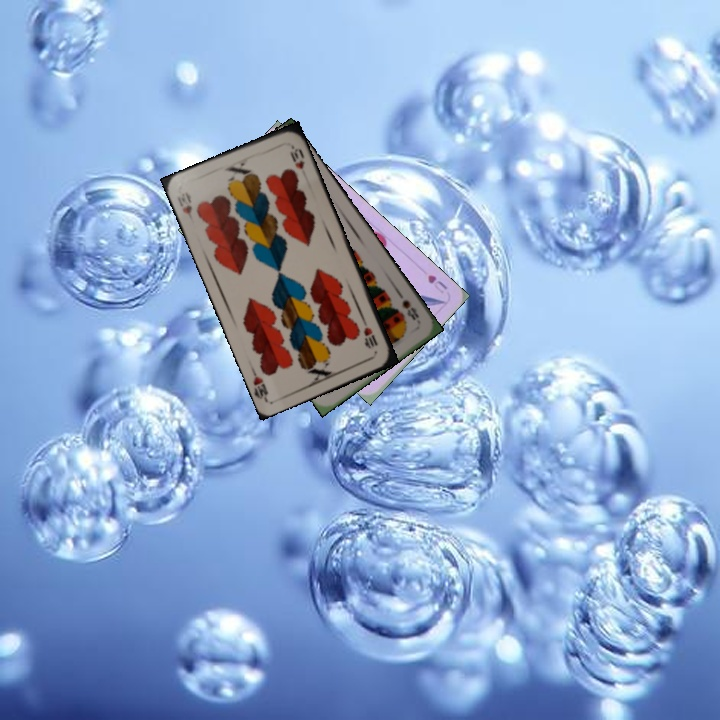H10: (358, 315, 381, 351), (173, 193, 197, 226)
HU: (424, 271, 450, 296)
S8: (398, 296, 422, 323)
